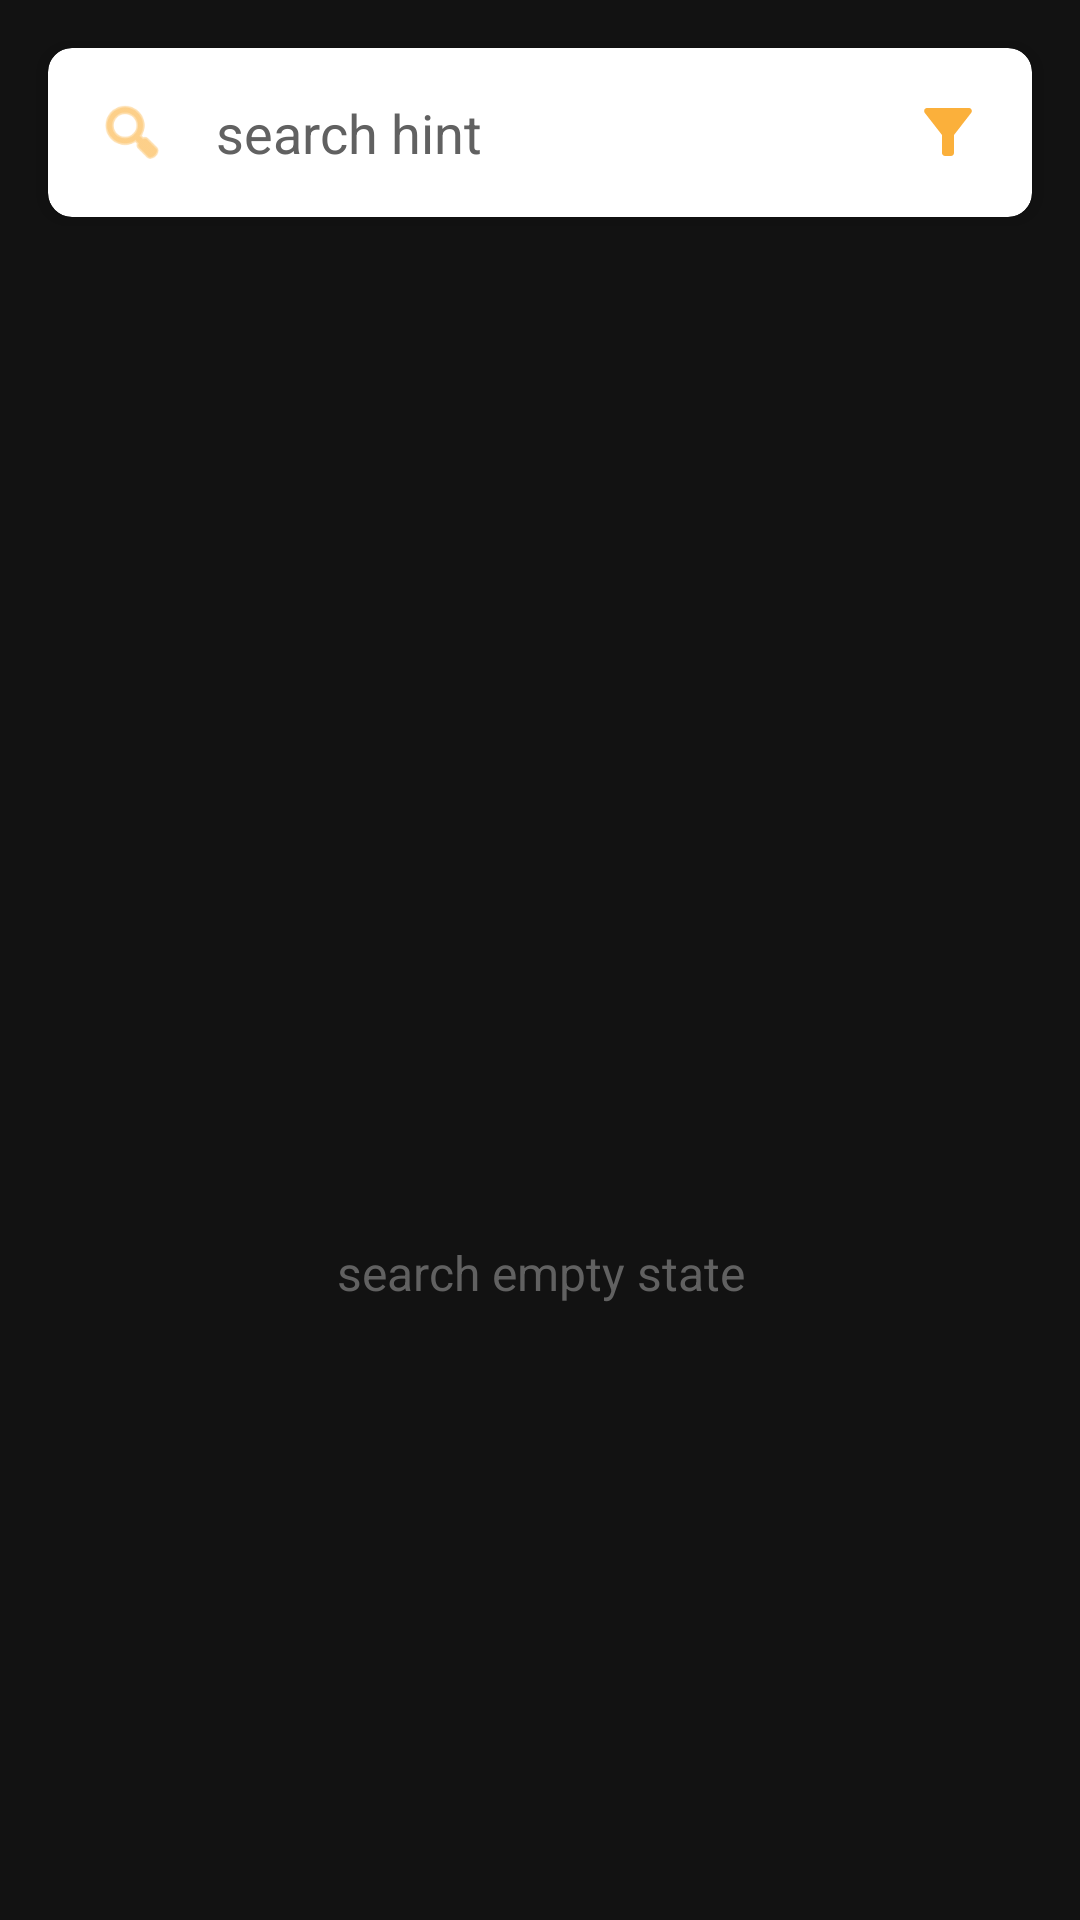

Icons on this 1080px×1920px Android screen, each with the point to tap as point (x, y):
Filter movies by decade: point (948, 132)
